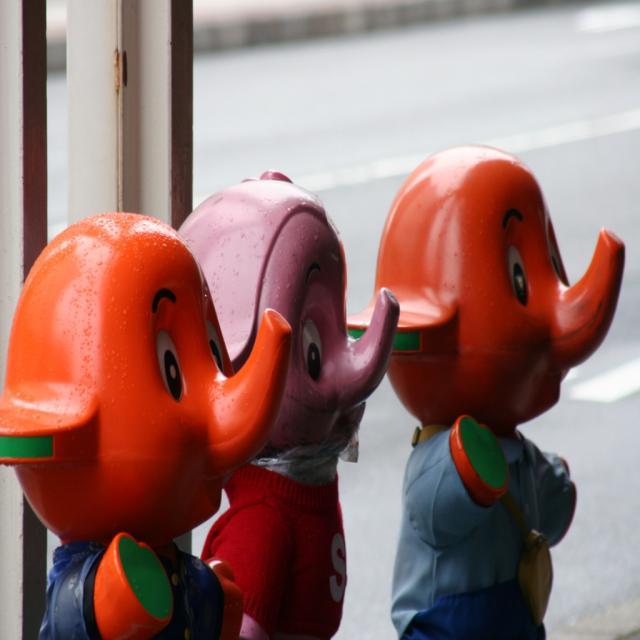elephant: (285, 128, 611, 609)
